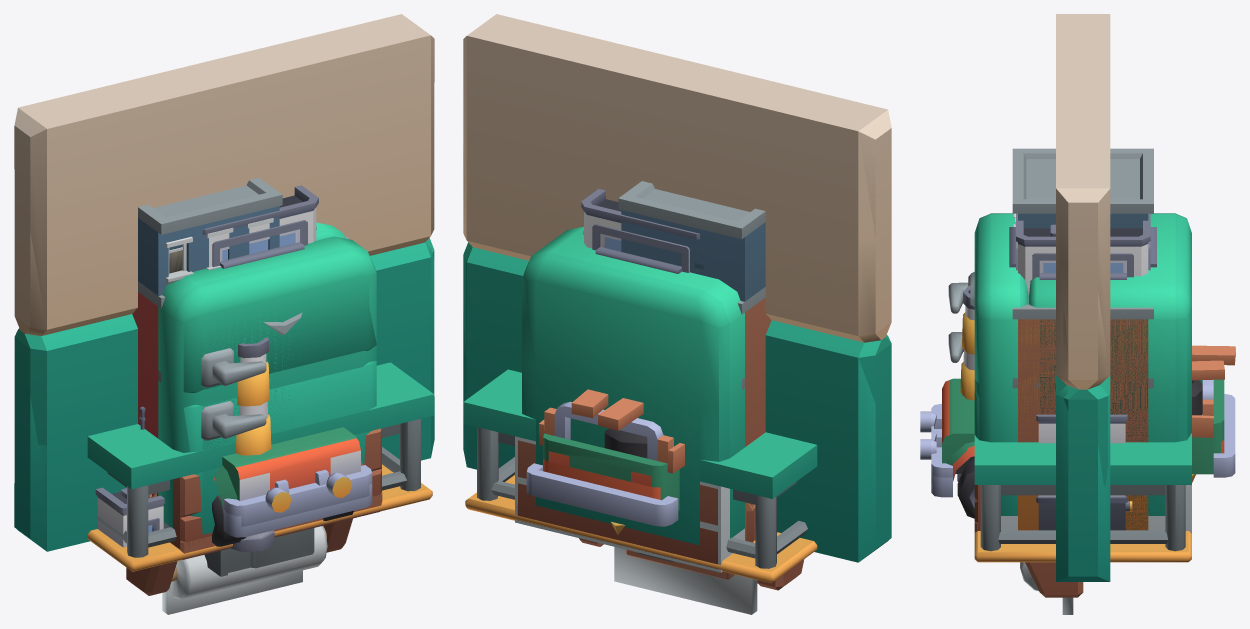
Rendered from props.glb.
3 renders of one model, left to right at view 1: azimuth 30°, elevation 25°; view 2: azimuth 150°, elevation 25°; view 3: azimuth 270°, elevation 25°, orthographic. The views are drawn at different scales.
Parts seen in each view (by area): view 1: wall, wall_window_closed, fridge_A_door_top, wall_half, kitchentable_B_large, body (×2), fridge_B_door, building_H_withoutBase, fridge_A_door_bottom, shelf_papertowel_decorated, building-l, building-skyscraper-a (+8 smaller); view 2: wall, wall_window_closed, Cube.616, body (×2), kitchentable_B_large, building_H_withoutBase, shelf_papertowel_decorated, building-skyscraper-a, rug_rectangle_stripes_A, crate_tomatoes, building_E_withoutBase, kitchencounter_straight_B (+6 smaller); view 3: wall, wall_half, kitchentable_B_large, Cube.616, building_E_withoutBase, wall_window_closed, body (×2), building_H_withoutBase, fridge_B_door, building-skyscraper-a, fridge_A_door_top, building_G_withoutBase (+8 smaller).
Boxes of the visible parts, x1=… form: wall: x1=14, y1=14, x2=430, y2=551; wall_window_closed: x1=14, y1=14, x2=434, y2=551; fridge_A_door_top: x1=165, y1=236, x2=376, y2=392; wall_half: x1=249, y1=35, x2=434, y2=459; kitchentable_B_large: x1=87, y1=362, x2=434, y2=557; body (×2): x1=212, y1=427, x2=372, y2=537; fridge_B_door: x1=158, y1=253, x2=376, y2=533; building_H_withoutBase: x1=138, y1=177, x2=349, y2=308; fridge_A_door_bottom: x1=183, y1=361, x2=376, y2=534; shelf_papertowel_decorated: x1=126, y1=518, x2=352, y2=614; building-l: x1=95, y1=337, x2=274, y2=552; building-skyscraper-a: x1=202, y1=185, x2=318, y2=268; wall: x1=463, y1=14, x2=891, y2=562; wall_window_closed: x1=463, y1=14, x2=891, y2=562; Cube.616: x1=522, y1=227, x2=744, y2=545; body (×2): x1=526, y1=389, x2=684, y2=526; kitchentable_B_large: x1=463, y1=369, x2=817, y2=568; building_H_withoutBase: x1=618, y1=181, x2=765, y2=314; shelf_papertowel_decorated: x1=579, y1=538, x2=804, y2=614; building-skyscraper-a: x1=581, y1=189, x2=699, y2=273; rug_rectangle_stripes_A: x1=465, y1=475, x2=817, y2=583; crate_tomatoes: x1=518, y1=440, x2=717, y2=564; building_E_withoutBase: x1=742, y1=287, x2=771, y2=540; kitchencounter_straight_B: x1=515, y1=436, x2=744, y2=572; wall: x1=1056, y1=14, x2=1110, y2=579; wall_half: x1=1056, y1=188, x2=1110, y2=581; kitchentable_B_large: x1=974, y1=433, x2=1191, y2=551; Cube.616: x1=1029, y1=213, x2=1191, y2=515; building_E_withoutBase: x1=1012, y1=295, x2=1153, y2=530; wall_window_closed: x1=1056, y1=14, x2=1110, y2=576; body (×2): x1=920, y1=345, x2=1235, y2=497; building_H_withoutBase: x1=1012, y1=148, x2=1153, y2=309; fridge_B_door: x1=948, y1=214, x2=1028, y2=515; building-skyscraper-a: x1=1009, y1=213, x2=1156, y2=294; fridge_A_door_top: x1=948, y1=213, x2=1024, y2=382; building_G_withoutBase: x1=1034, y1=309, x2=1153, y2=529.
Bounding box in the file's own units: 4 × 4.91 × 2.9.
11 materials, 11 textured.
